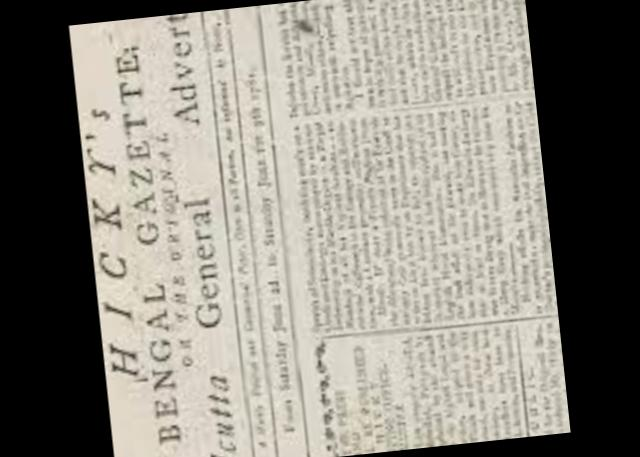cardboard paper: (69, 0, 571, 457)
